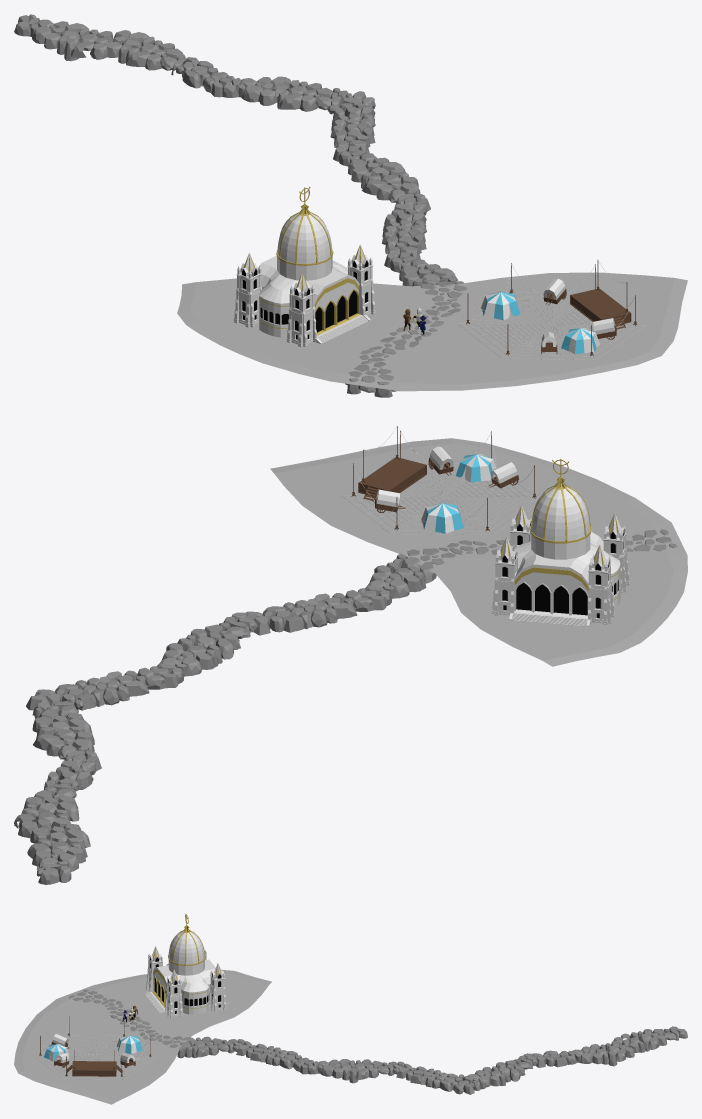
File: HumanCastleShowcase.glb
The picture shows the model from 3 angles, top to bottom: view 1: azimuth 30°, elevation 25°; view 2: azimuth 150°, elevation 25°; view 3: azimuth 270°, elevation 25°; orthographic projection. The views are drawn at different scales.
Parts seen in each view (by area): view 1: CastleShowcase, StoneRoad, MegaChurch, Festival; view 2: CastleShowcase, StoneRoad, MegaChurch, Festival; view 3: CastleShowcase, StoneRoad, MegaChurch, Festival.
Part boxes in pixels (x1,y1,x2,y2): CastleShowcase: (177, 272, 687, 391); StoneRoad: (14, 14, 466, 397); MegaChurch: (233, 186, 375, 346); Festival: (457, 260, 645, 359); CastleShowcase: (270, 438, 687, 666); StoneRoad: (14, 529, 677, 884); MegaChurch: (491, 459, 629, 626); Festival: (342, 426, 541, 534); CastleShowcase: (14, 969, 271, 1104); StoneRoad: (69, 989, 687, 1094); MegaChurch: (145, 913, 228, 1018); Festival: (33, 1016, 157, 1079).
Size of the model in its own units: 37.79 by 12.41 by 79.43.
